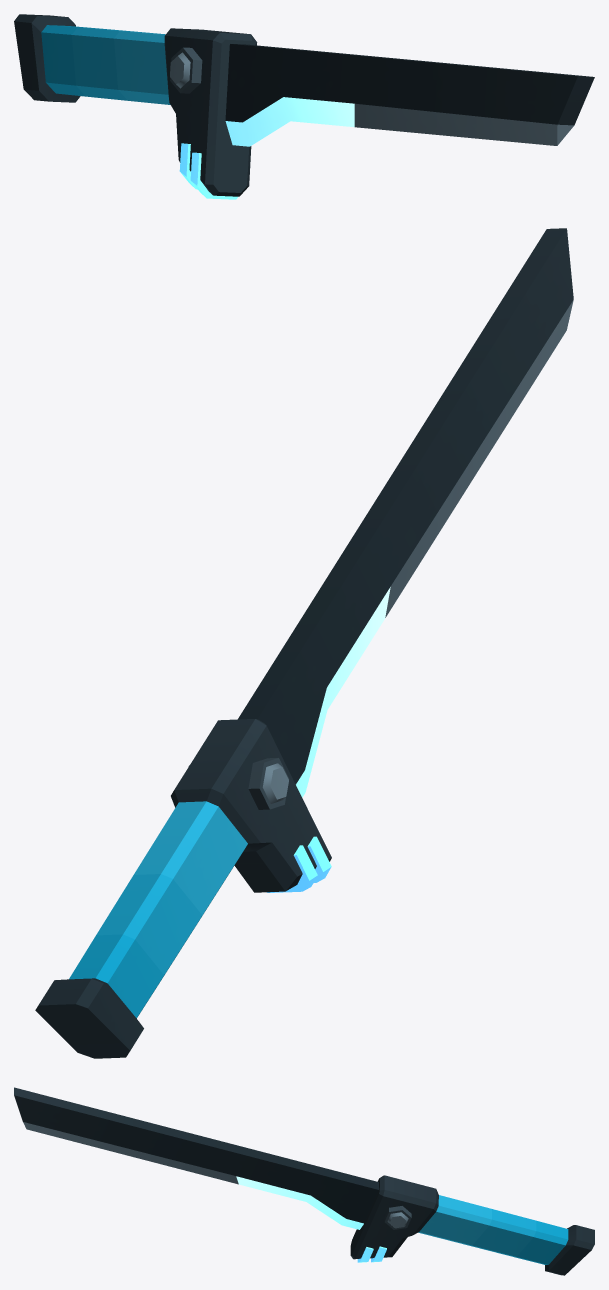
File: Level3Sword.fbx
3 views of the same model, one above another, from view 1: azimuth 30°, elevation 25°; view 2: azimuth 150°, elevation 25°; view 3: azimuth 270°, elevation 25° (orthographic). The views are drawn at different scales.
Parts seen in each view (by area): view 1: Sword_02_Blue; view 2: Sword_02_Blue; view 3: Sword_02_Blue.
Boxes of the visible parts, x1=… form: Sword_02_Blue: x1=14, y1=14, x2=594, y2=199; Sword_02_Blue: x1=35, y1=228, x2=573, y2=1058; Sword_02_Blue: x1=14, y1=1087, x2=594, y2=1275.
Bounding box in the file's own units: 13.7 × 40.02 × 102.
Materials: 1 (1 with a texture image).
